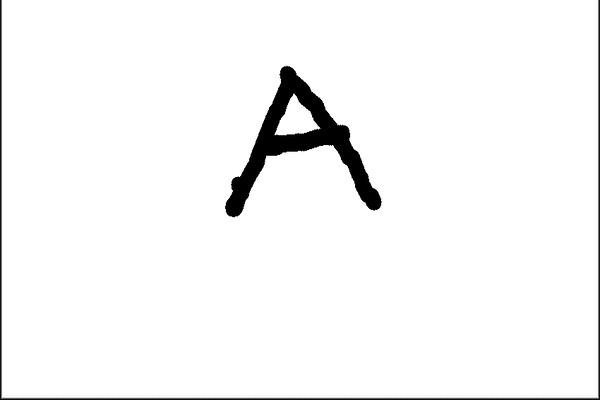A: (212, 60, 386, 221)
